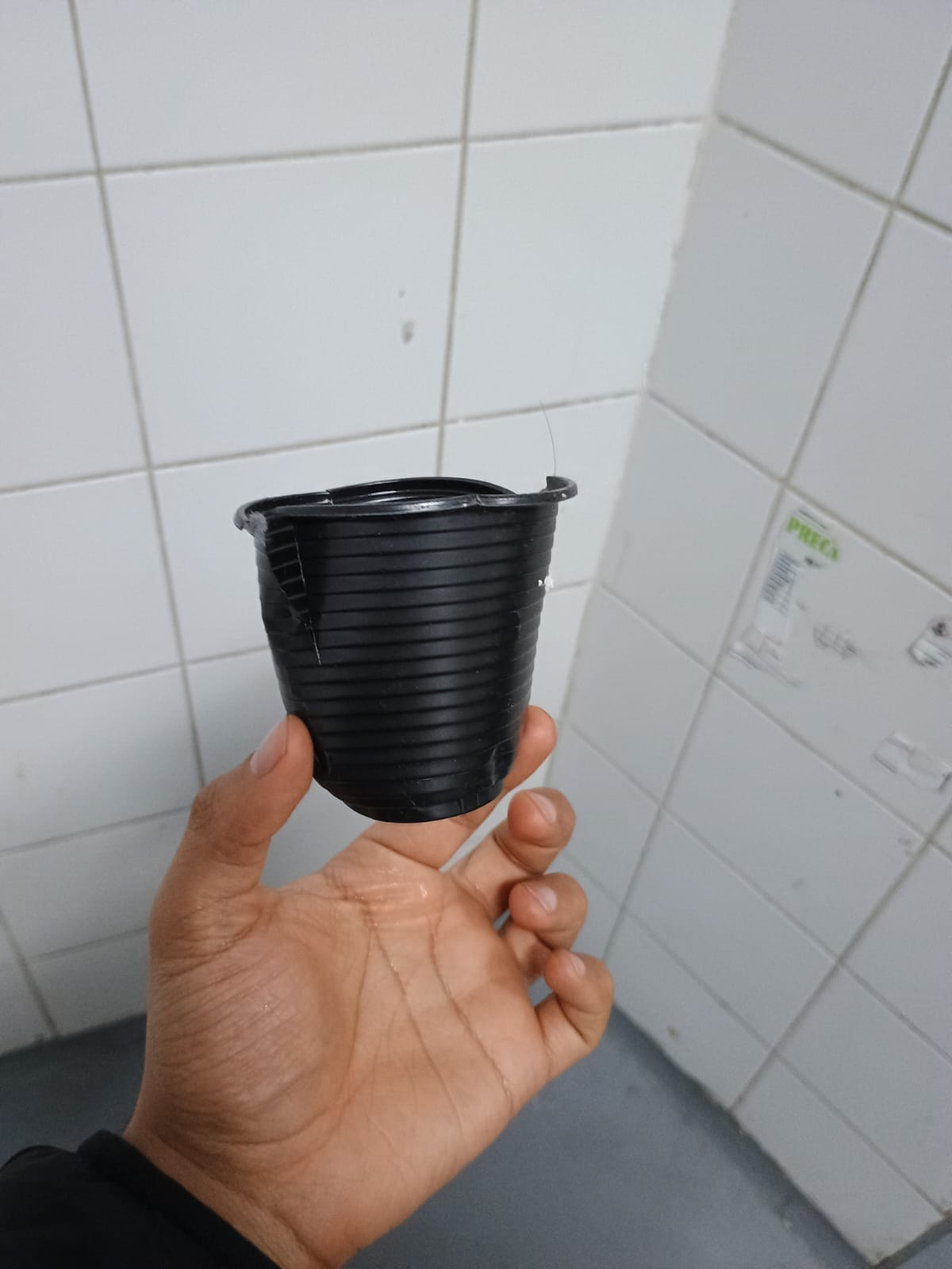Plastico: (234, 473, 582, 823)
